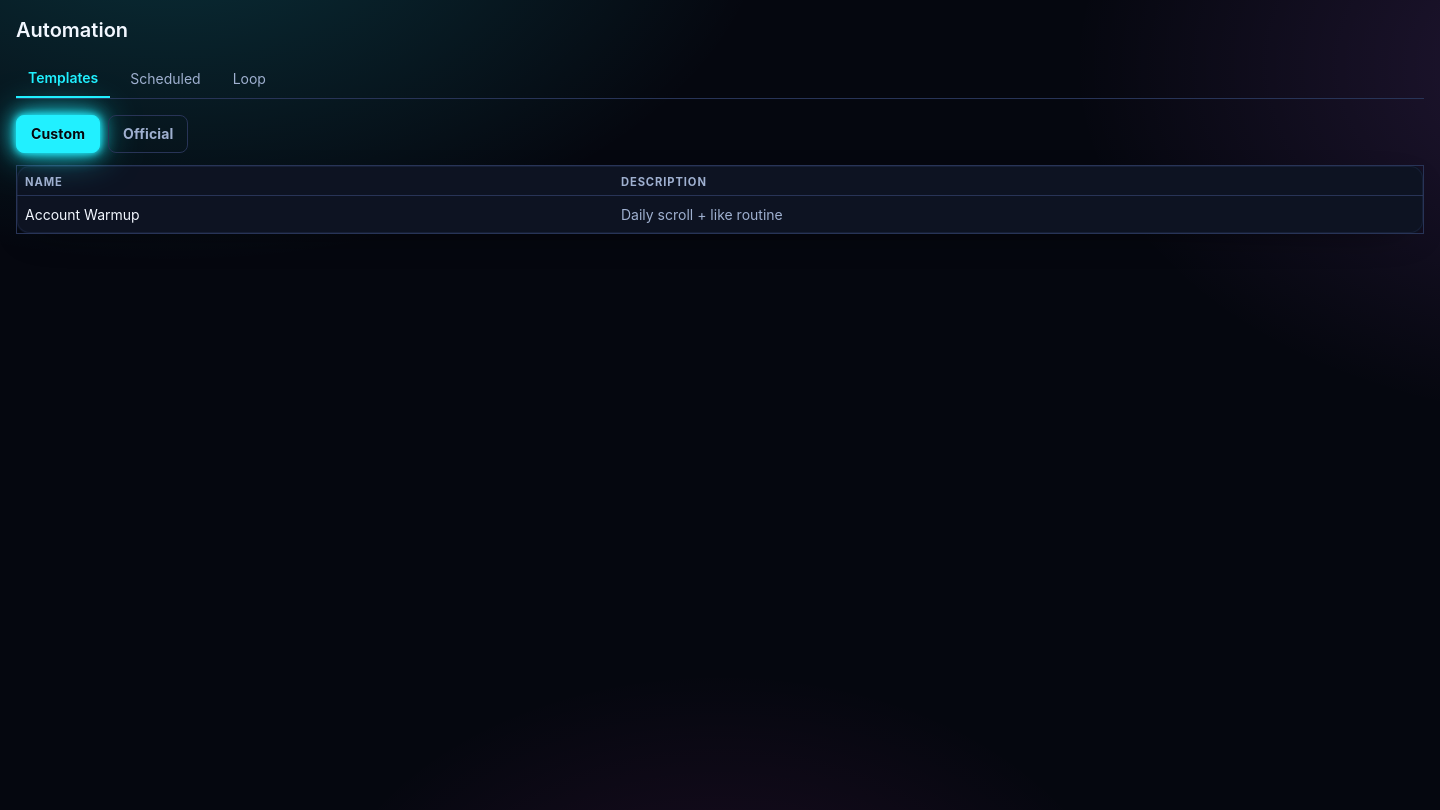
AutomationPage › toggles to official templates
Expected: the text "Account Warmup" is shown, [16,195,613,233]
Click the button "Official": (148, 134) [108,115,188,153]
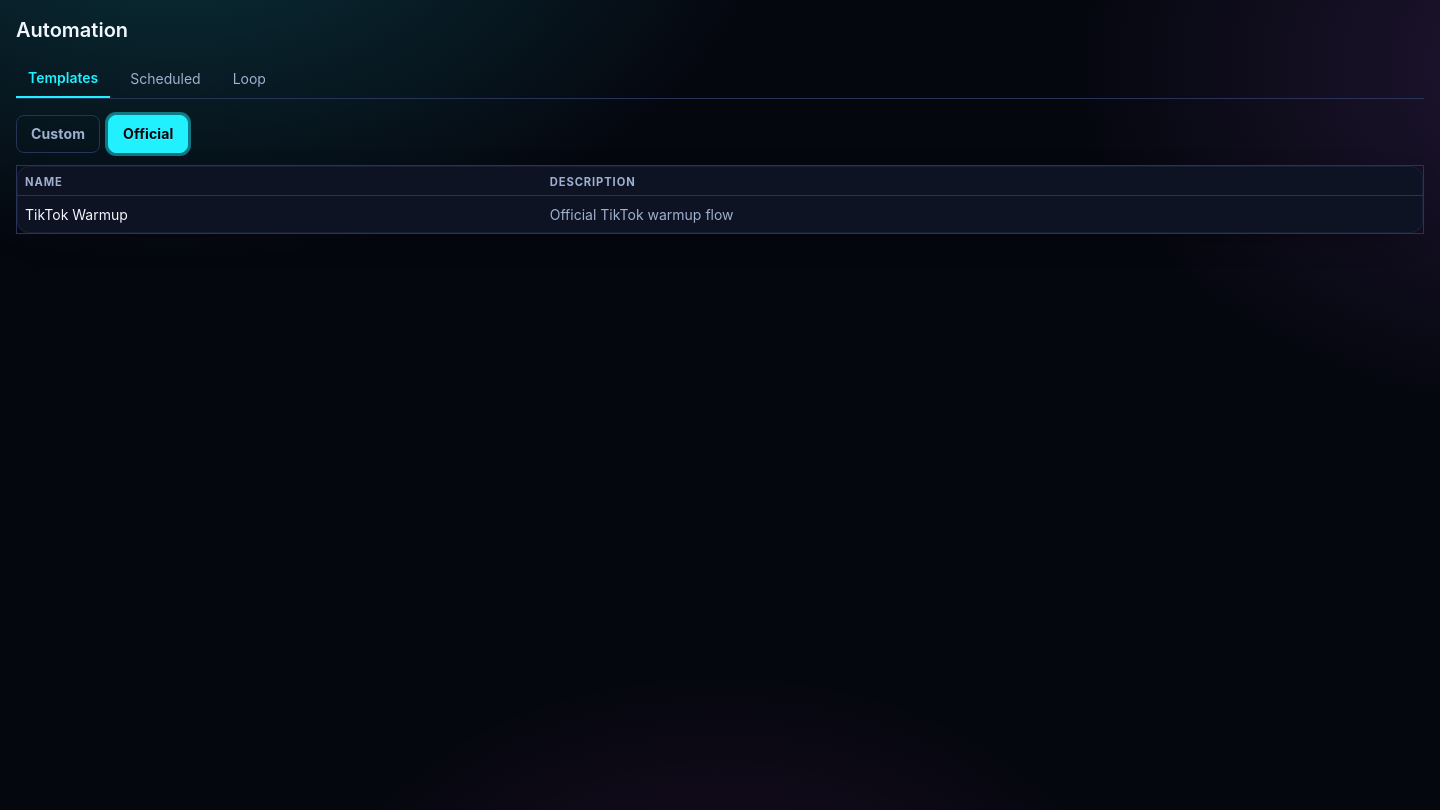
Expected: the text "TikTok Warmup" is shown, [16,195,542,233]
